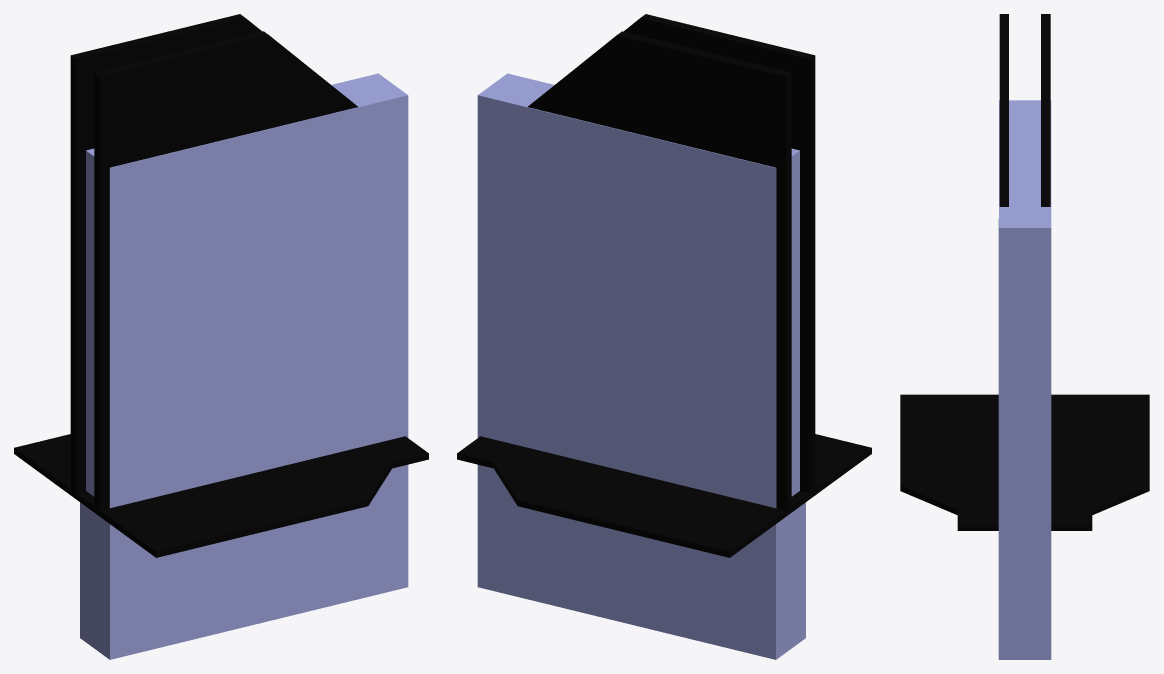
File: Bookcase Parts.fbx
3 views of the same model, side by side, from view 1: azimuth 30°, elevation 25°; view 2: azimuth 150°, elevation 25°; view 3: azimuth 270°, elevation 25° (orthographic). The views are drawn at different scales.
Visible parts, largest first — view 1: book.004, bookshelf, bookshelf.001; view 2: book.004, bookshelf.001, bookshelf; view 3: book.004, bookshelf, bookshelf.001.
Part boxes in pixels (<box>): book.004: <box>80,73,408,659</box>; bookshelf: <box>14,31,428,533</box>; bookshelf.001: <box>46,14,392,557</box>; book.004: <box>477,73,805,659</box>; bookshelf.001: <box>457,31,871,533</box>; bookshelf: <box>478,14,839,557</box>; book.004: <box>998,100,1051,659</box>; bookshelf: <box>957,14,1149,530</box>; bookshelf.001: <box>900,14,1092,530</box>.
Size of the model in its own units: 123 by 223 by 98.01.
